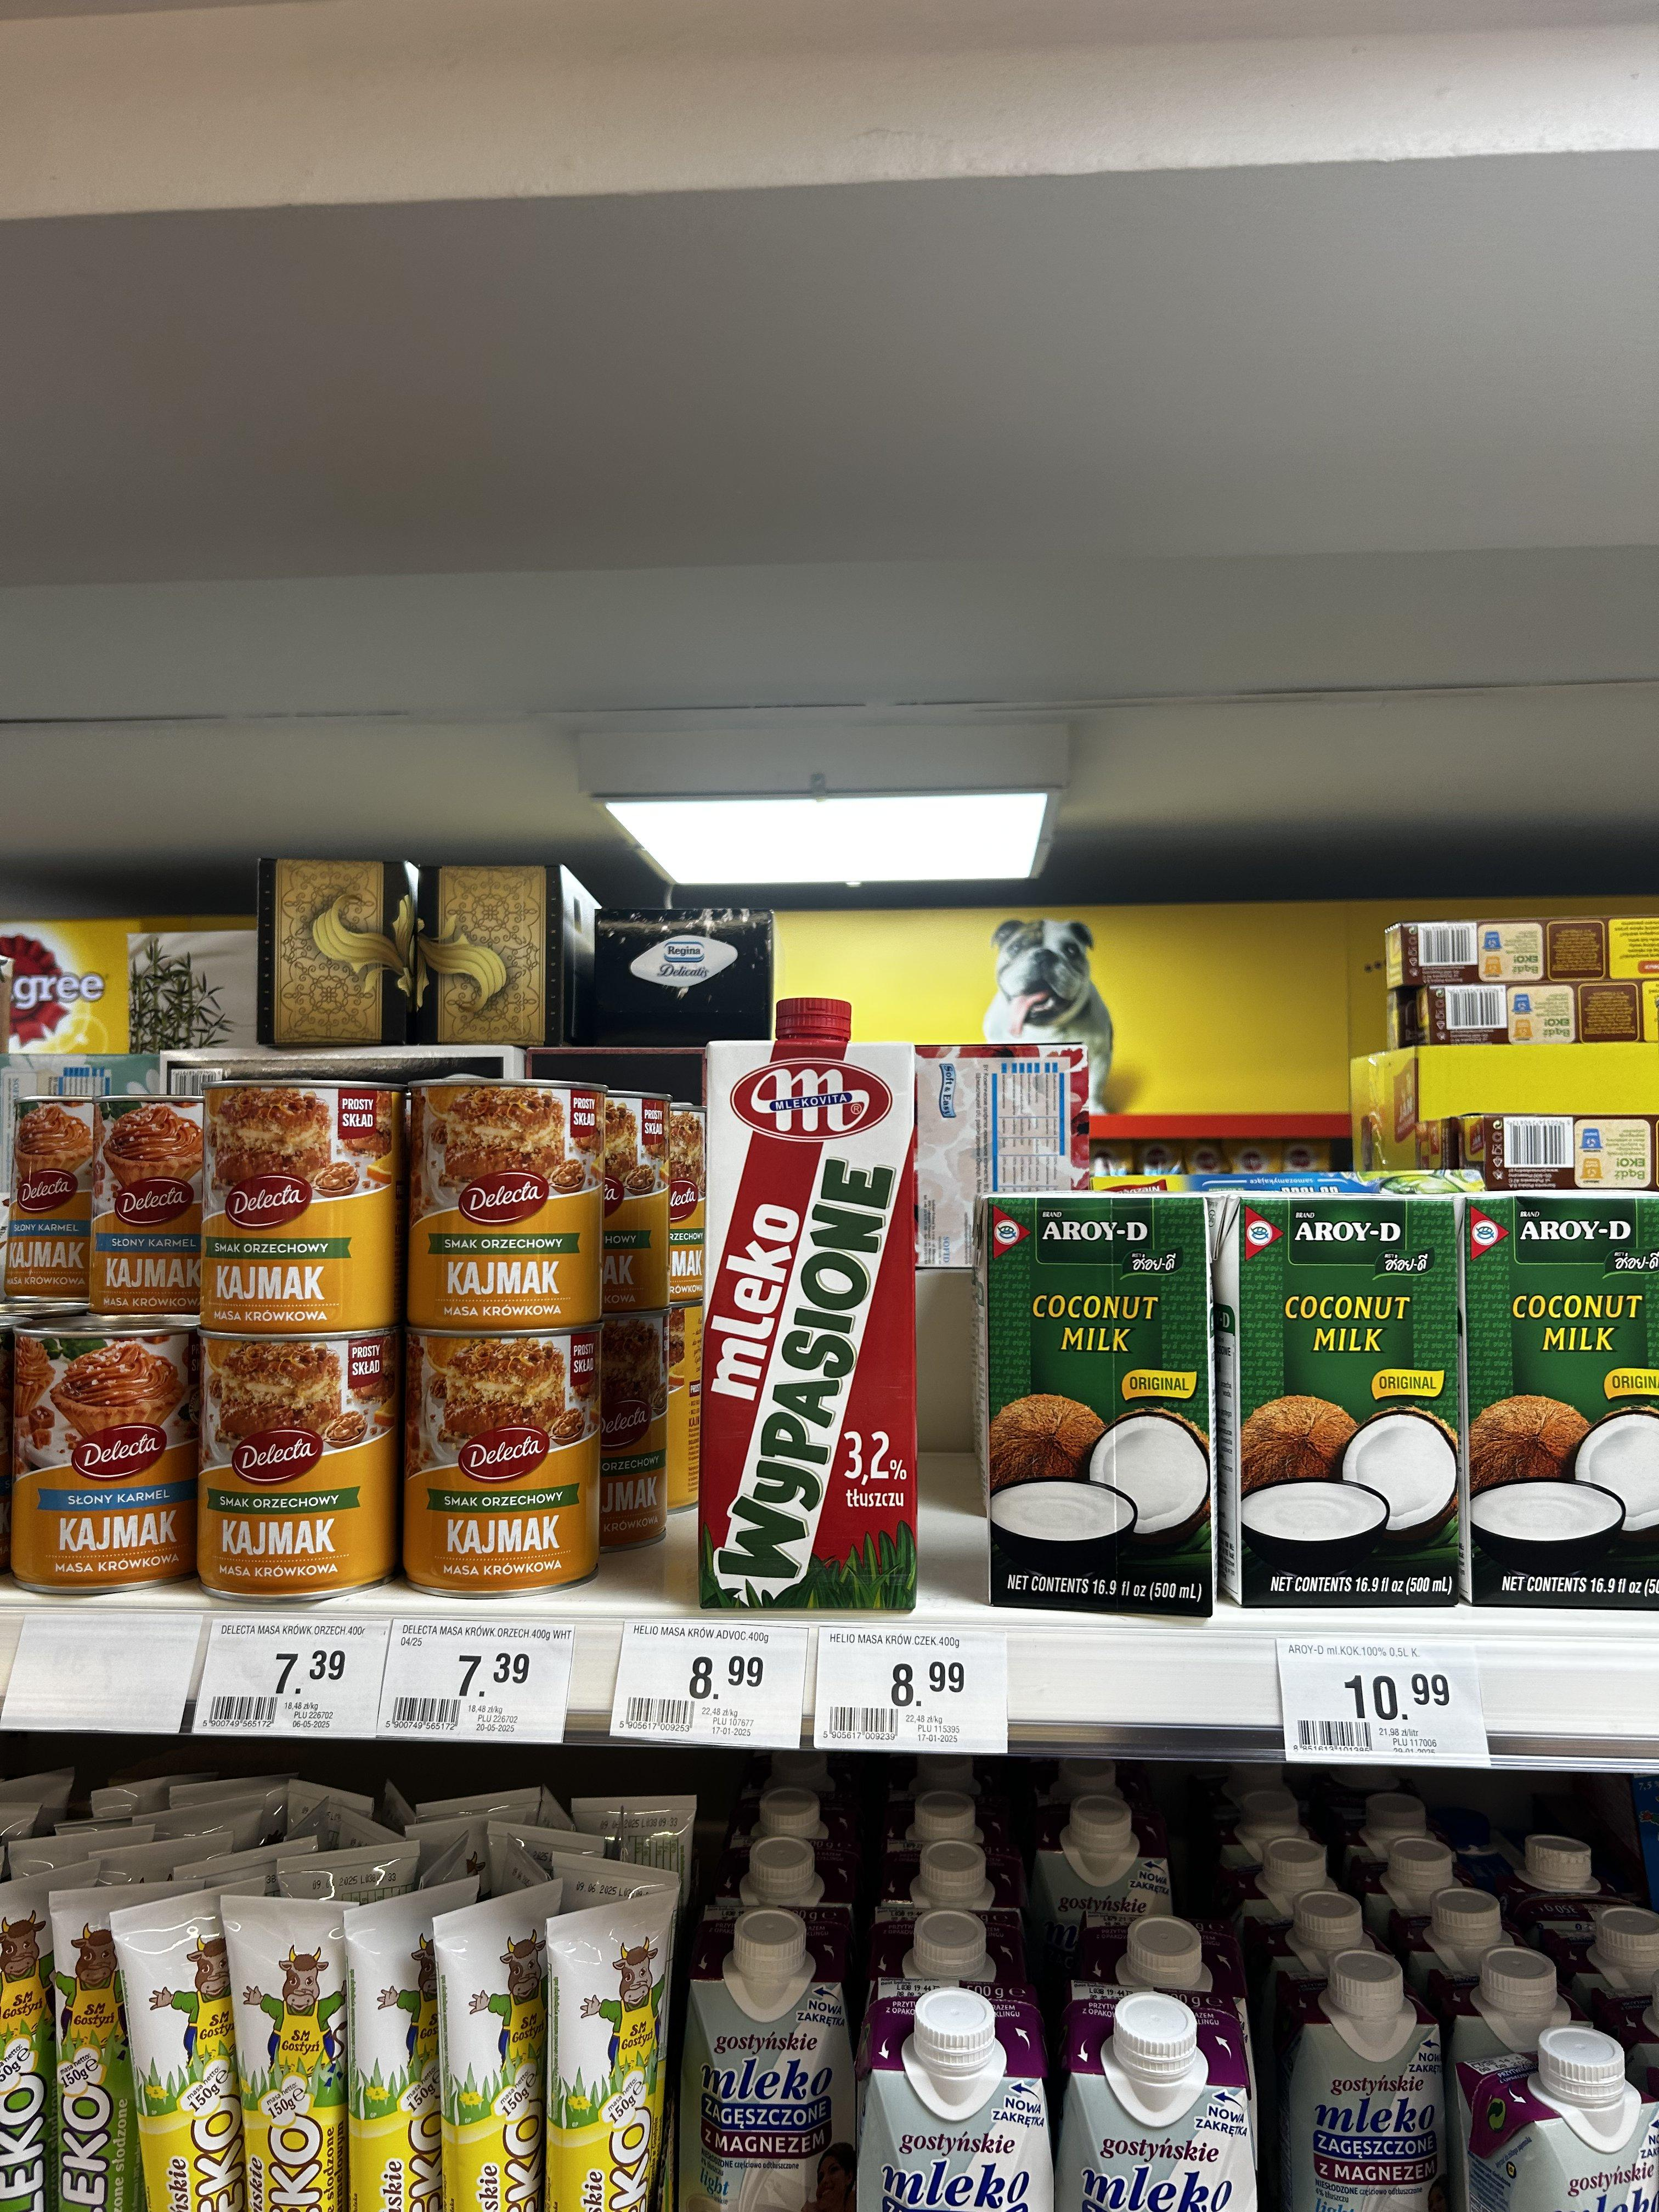Milk: (676, 989, 934, 1620)
